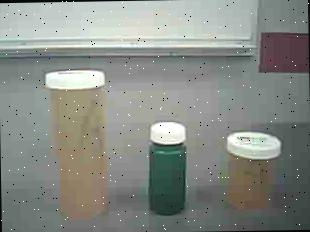Bottle A: (40, 67, 130, 224)
Bottle B: (222, 126, 282, 218)
Bottle C: (143, 117, 202, 222)
